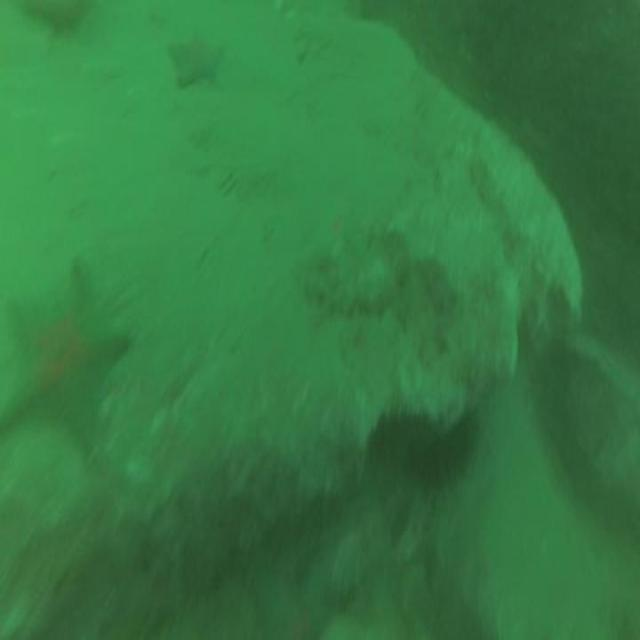starfish: (8, 260, 130, 446), (170, 28, 224, 88)
